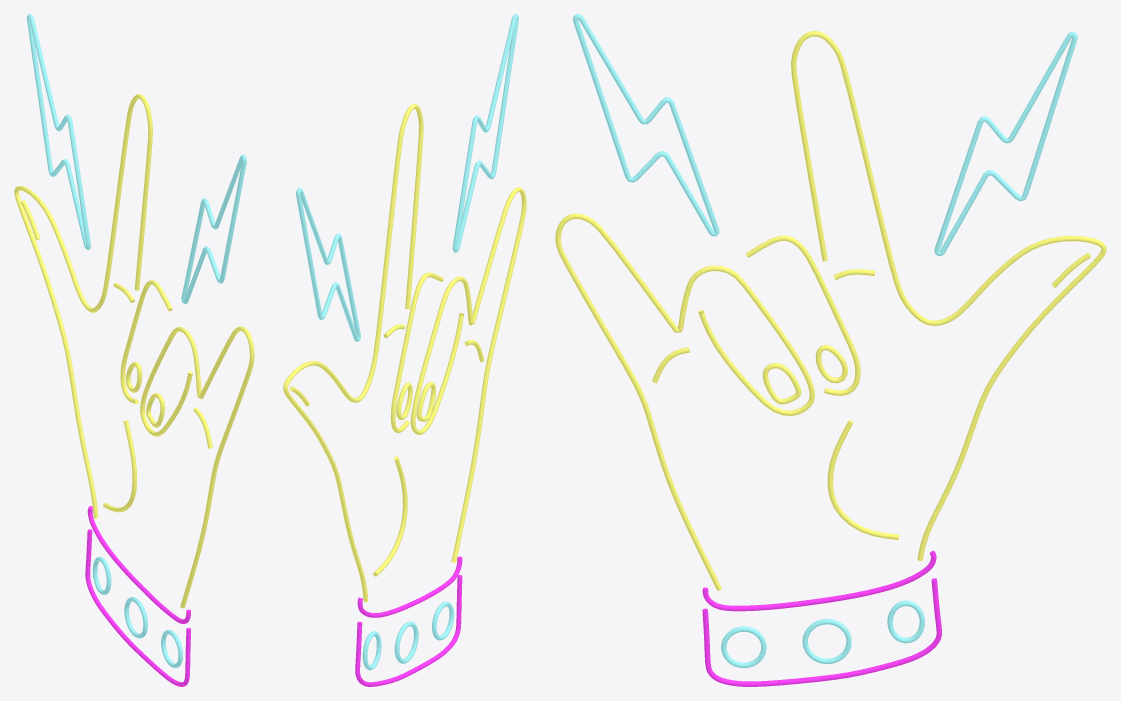
File: punk_rock_neon_sign.glb
3 renders of one model, left to right at view 1: azimuth 30°, elevation 25°; view 2: azimuth 150°, elevation 25°; view 3: azimuth 270°, elevation 25°, orthographic. The views are drawn at different scales.
Parts seen in each view (by area): view 1: Vert; view 2: Vert; view 3: Vert.
Part boxes in pixels (x1,y1,x2,y2): Vert: (14,14,254,686); Vert: (283,14,526,686); Vert: (555,14,1106,686).
Bounding box in the file's own units: 0.02 × 2.68 × 1.99.
Materials: 1 (1 with a texture image).
